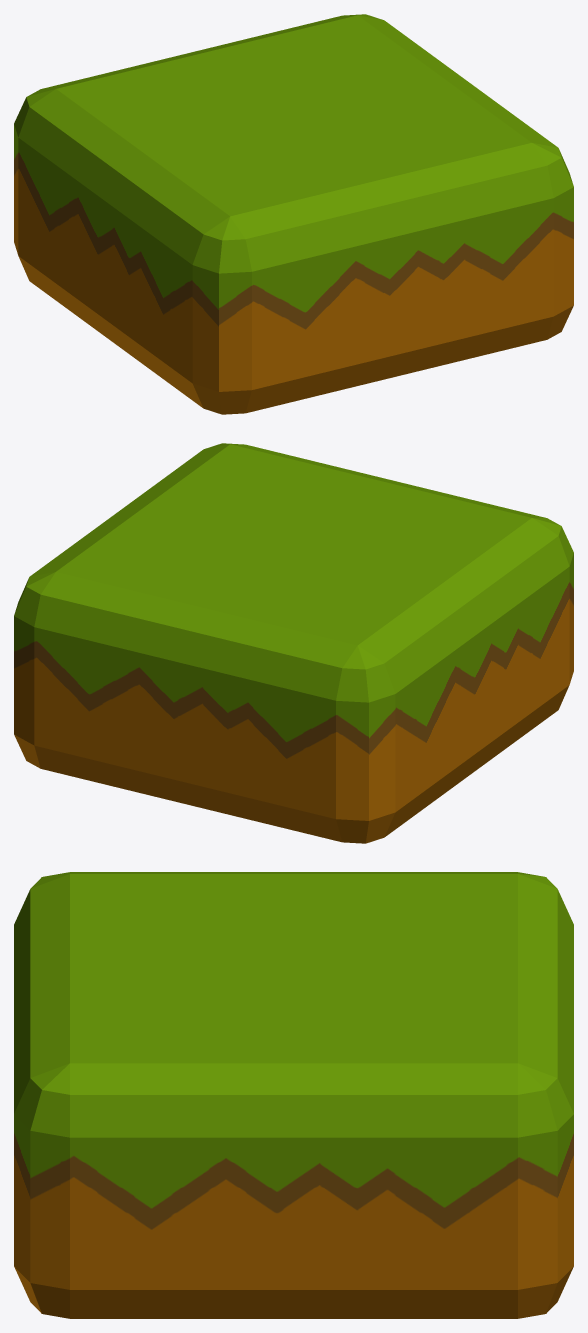
Rendered from block01.FBX.
3 renders of one model, top to bottom at view 1: azimuth 30°, elevation 25°; view 2: azimuth 150°, elevation 25°; view 3: azimuth 270°, elevation 25°, orthographic. The views are drawn at different scales.
Visible parts, largest first — view 1: ChamferBox001; view 2: ChamferBox001; view 3: ChamferBox001.
Boxes of the visible parts, box(x1,y1,x2,y2) form: ChamferBox001: box(14, 14, 573, 414); ChamferBox001: box(14, 443, 573, 843); ChamferBox001: box(14, 872, 573, 1318).
Bounding box in the file's own units: 100 × 50 × 100.
